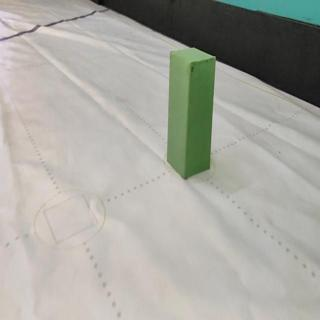greenbox: (166, 46, 217, 179)
